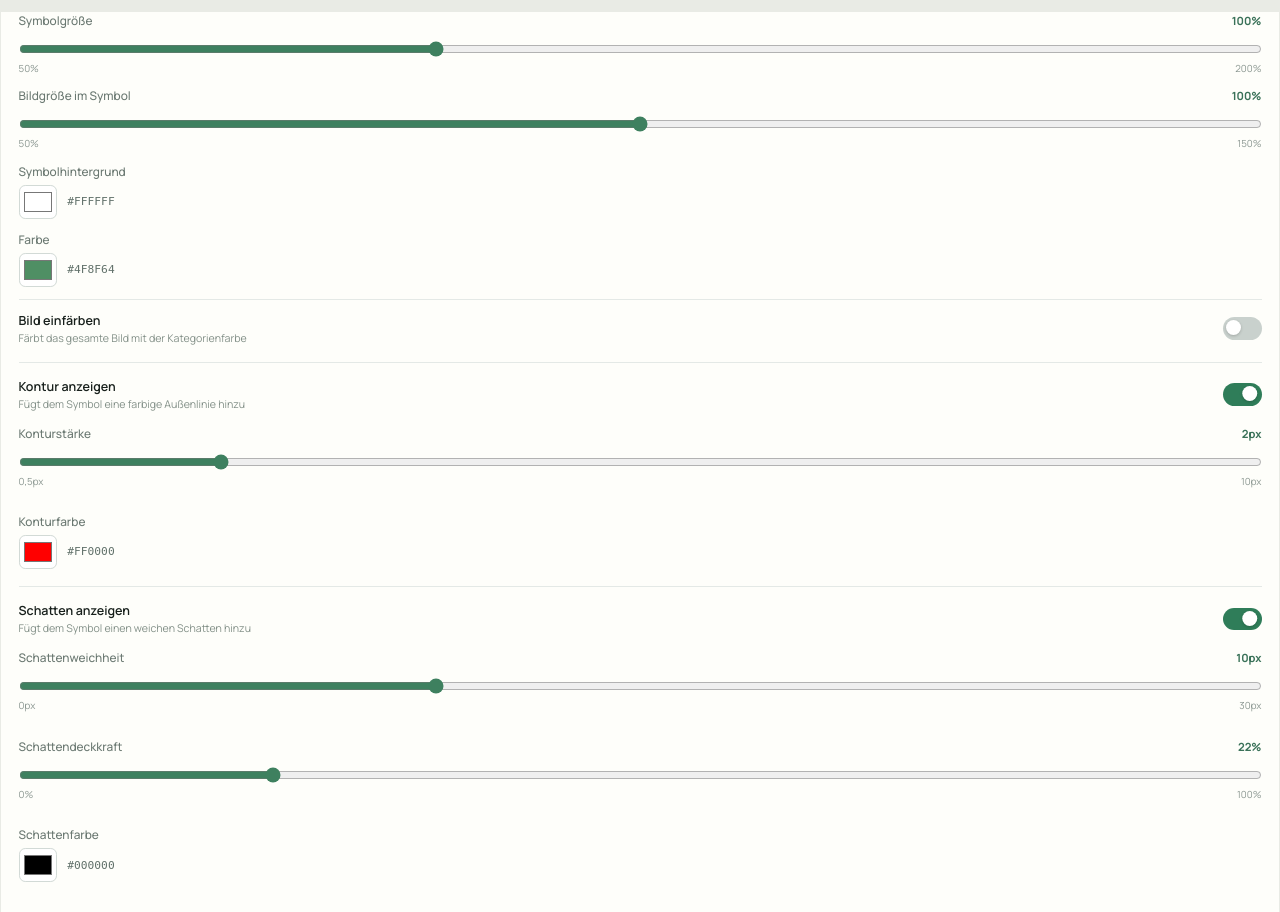
it: CategoryInspector › updates the image size inside the marker immediately
The width and height of the screenshot is (1280, 912).
(page scrolled)
Set the slider labelled "Bildgröße im Symbol" to "1.25" at x=947, y=124, box [18,114,1262,134]
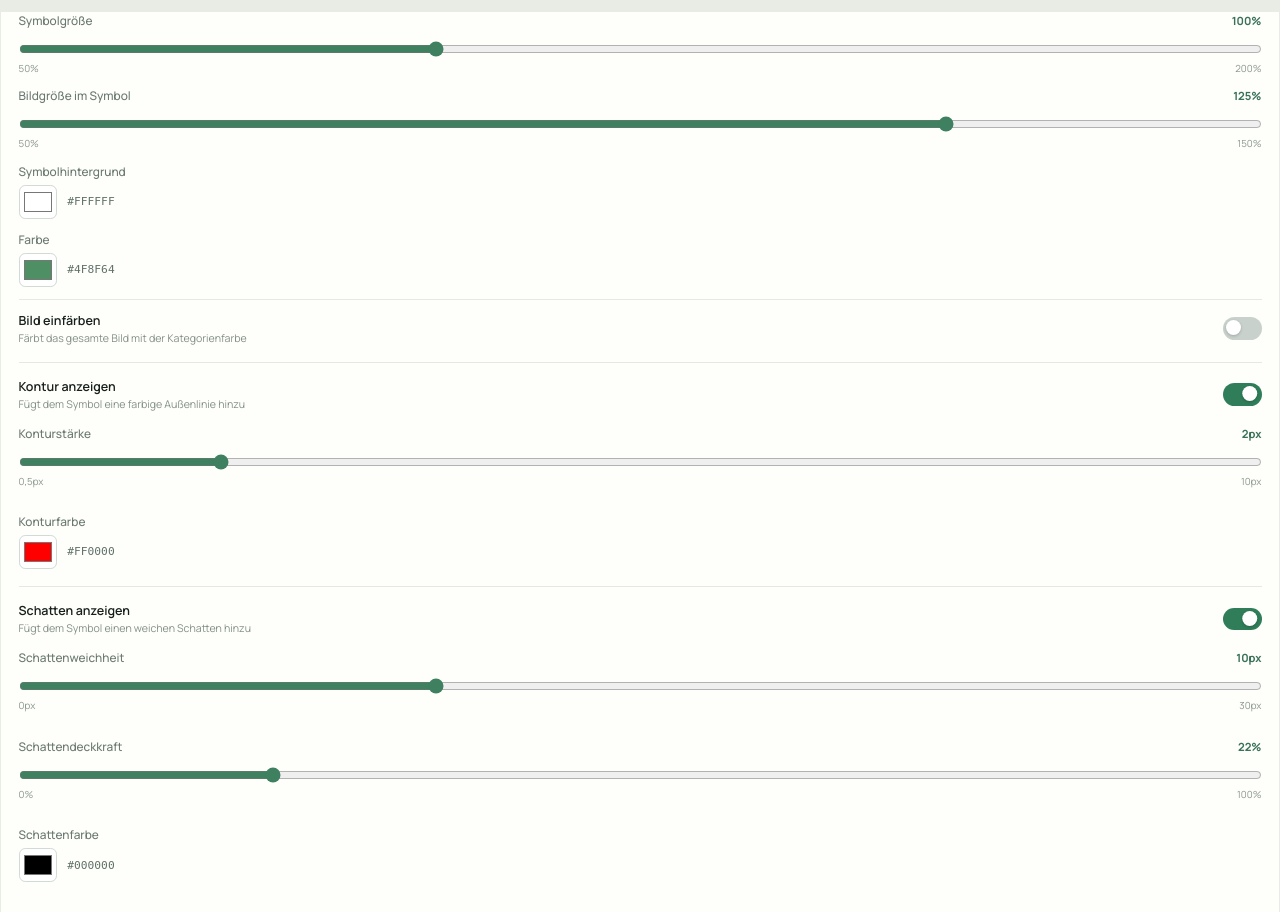
Check: the text "125%" is shown, box [1233,88,1262,103]
